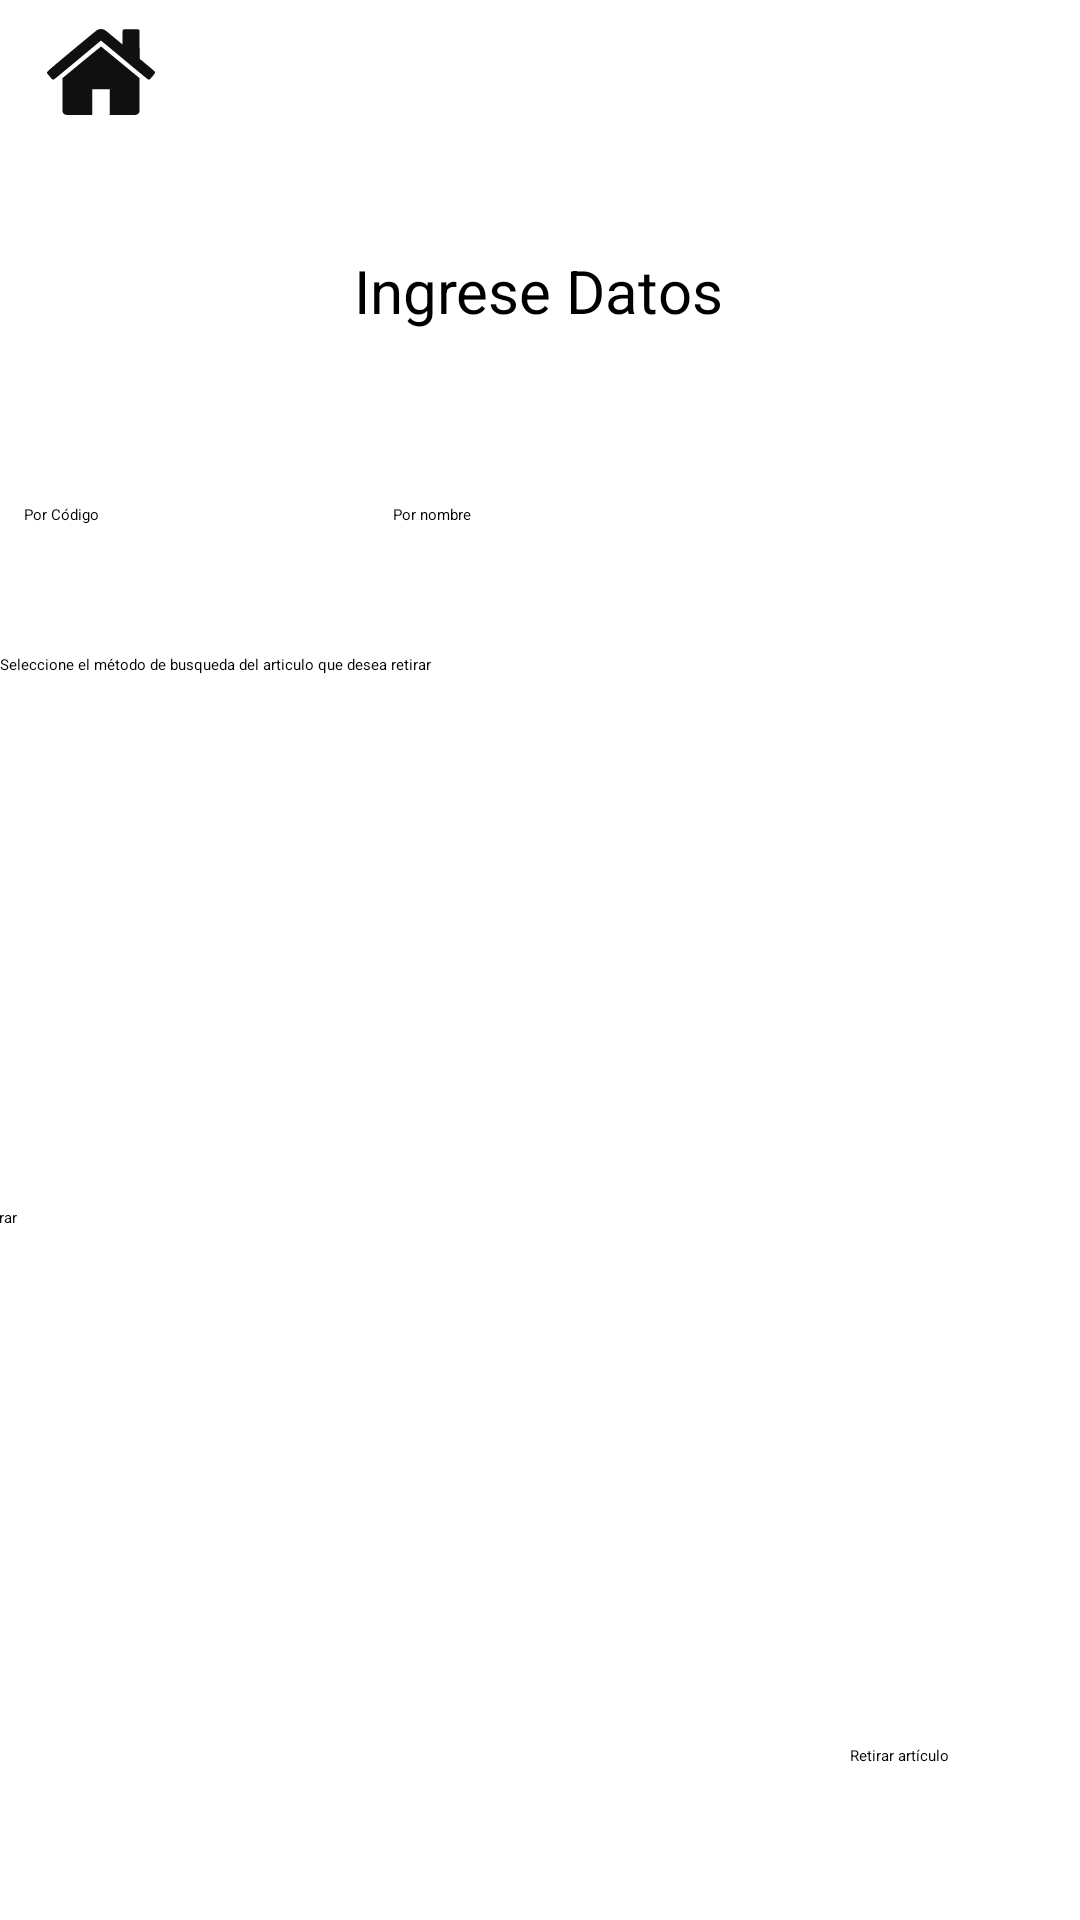

Icons on this 1080px×1920px Android screen, each with its box as (x1, y1, x2, y2):
Home: (47, 29, 155, 115)
